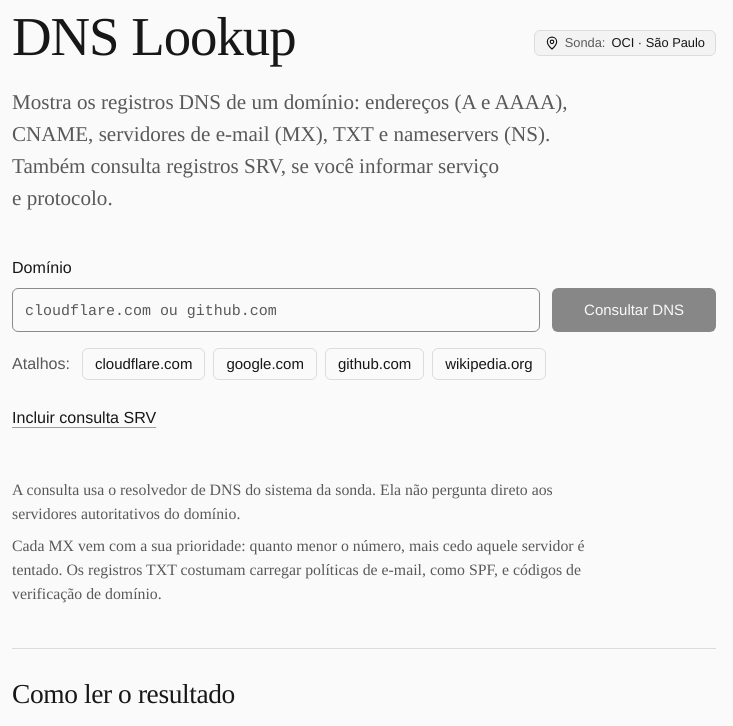
Test: DnsLookup (comportamento) › só com MX e sem endereço, diz que tem registros mas nenhum endereço
Type "example.com" into the field at (276, 310), box left=12, top=288, right=540, bottom=332
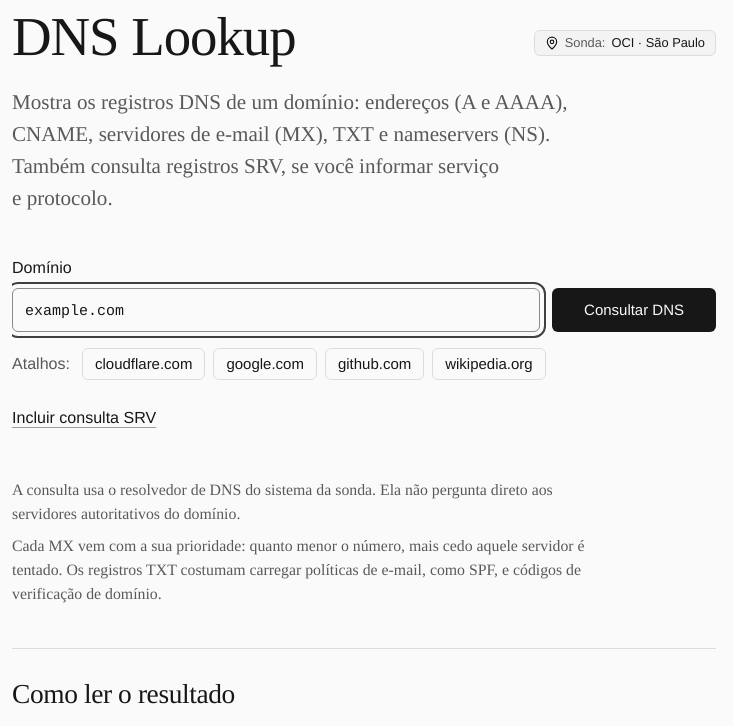
Click the button "Consultar DNS" at (634, 310), box left=552, top=288, right=716, bottom=332
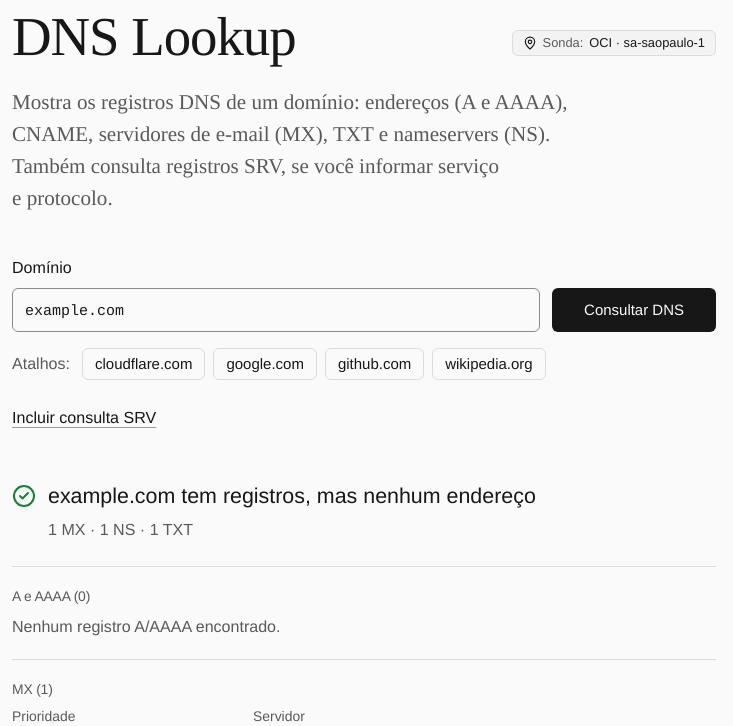
Check: the heading "example.com tem registros, mas nenhum endereço" is shown, box left=48, top=480, right=536, bottom=512
